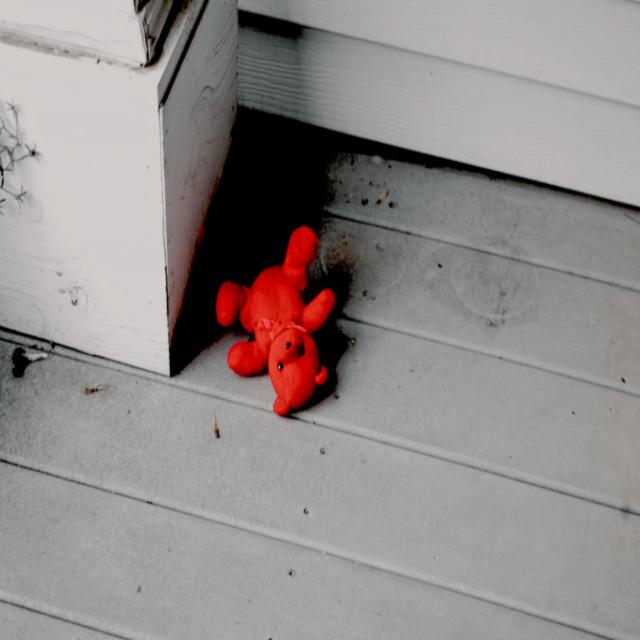Box: (0, 0, 239, 377), (0, 0, 179, 69)
